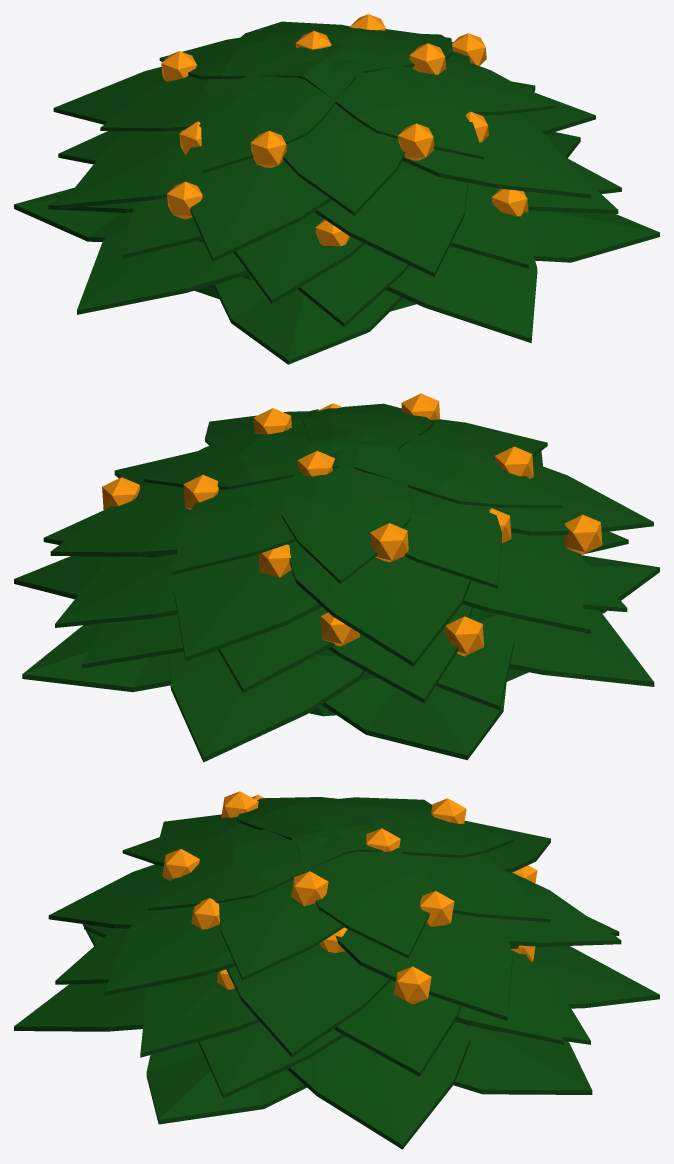
The model's file is BushLYellowFruits.obj.
3 views of the same model, one above another, from view 1: azimuth 30°, elevation 25°; view 2: azimuth 150°, elevation 25°; view 3: azimuth 270°, elevation 25° (orthographic). The views are drawn at different scales.
Parts seen in each view (by area): view 1: BushLYellowFruits_Icosphere.136; view 2: BushLYellowFruits_Icosphere.136; view 3: BushLYellowFruits_Icosphere.136.
Boxes of the visible parts, box(x1,y1,x2,y2) form: BushLYellowFruits_Icosphere.136: box(14, 14, 659, 364); BushLYellowFruits_Icosphere.136: box(14, 393, 659, 762); BushLYellowFruits_Icosphere.136: box(14, 791, 659, 1149).
Size of the model in its own units: 10 by 3.2 by 10.07.
